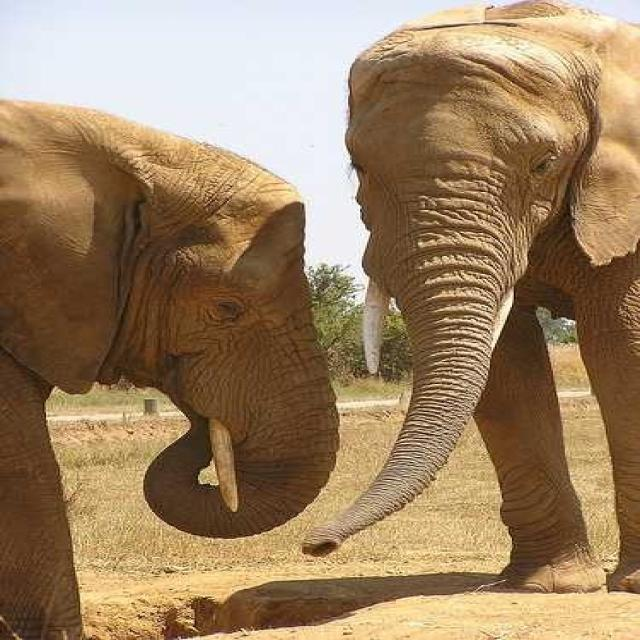Elephant: (299, 0, 638, 595), (0, 96, 341, 638)
